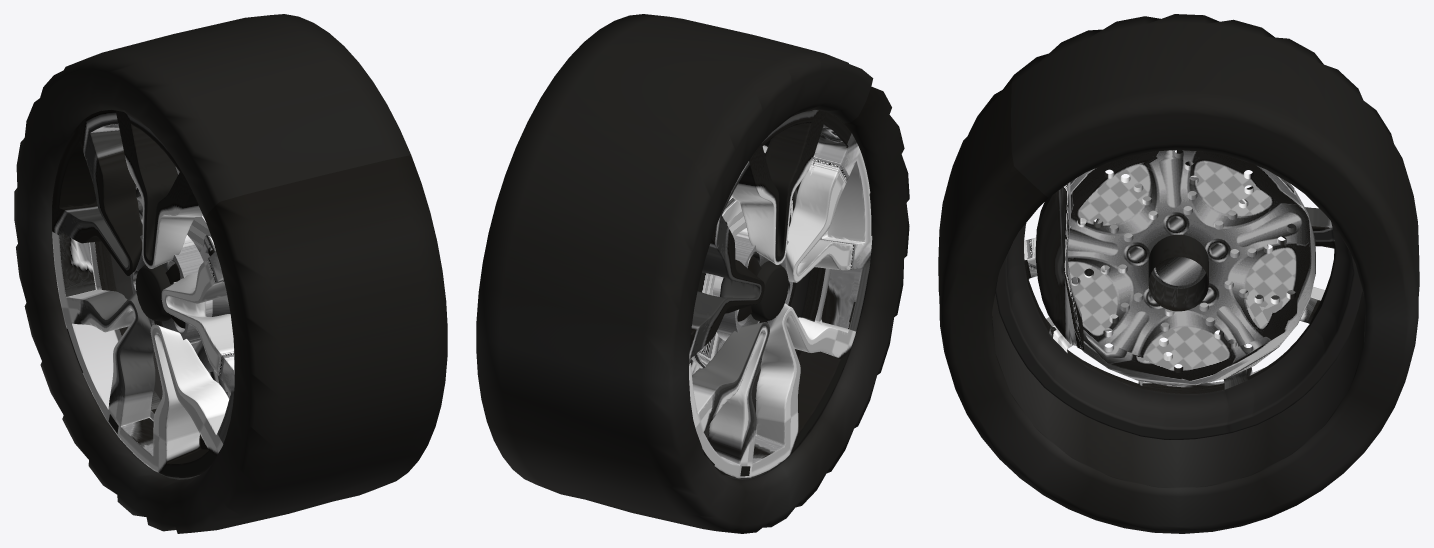
File: LlantaDDtext.obj
3 views of the same model, side by side, from view 1: azimuth 30°, elevation 25°; view 2: azimuth 150°, elevation 25°; view 3: azimuth 270°, elevation 25° (orthographic). The views are drawn at different scales.
Parts seen in each view (by area): view 1: audi_r8.005; view 2: audi_r8.005; view 3: audi_r8.005.
Boxes of the visible parts, x1,y1,x2,y2 form: audi_r8.005: (14, 14, 447, 533); audi_r8.005: (476, 14, 909, 533); audi_r8.005: (938, 14, 1419, 533).
Bounding box in the file's own units: 0.963 × 2.11 × 2.11.
